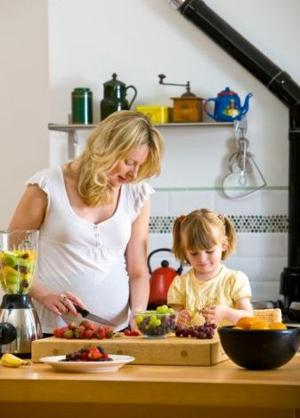person: (6, 112, 163, 339)
